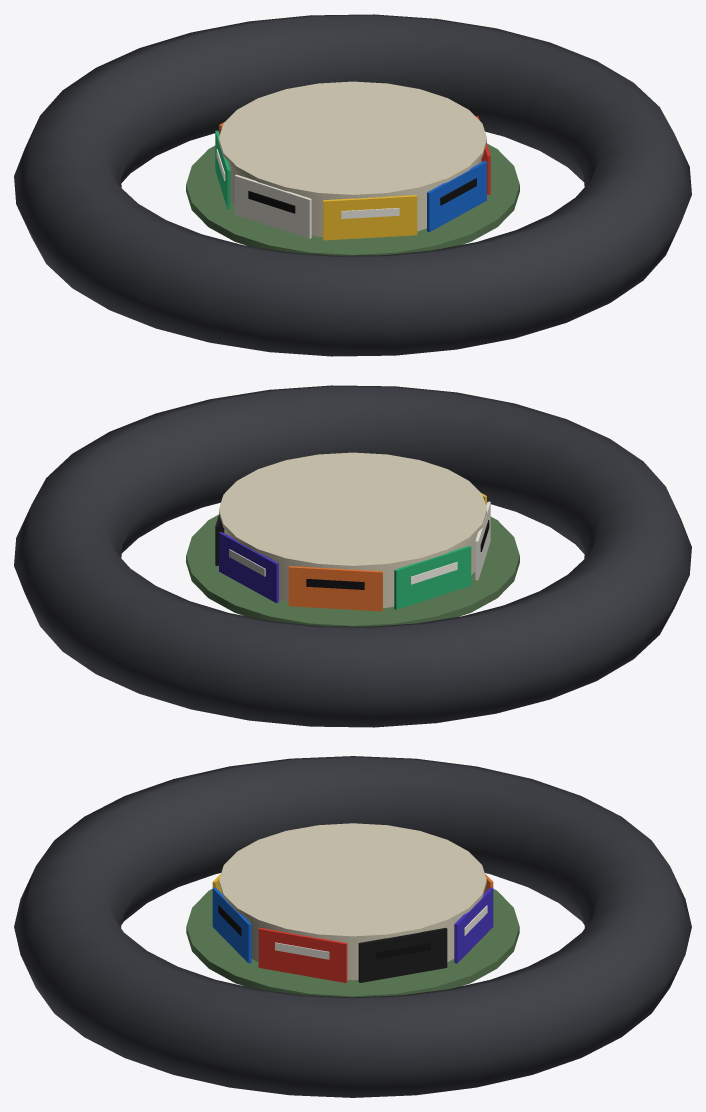
File: oldstreet.glb
The picture shows the model from 3 angles, top to bottom: view 1: azimuth 30°, elevation 25°; view 2: azimuth 150°, elevation 25°; view 3: azimuth 270°, elevation 25°; orthographic projection.
Visible parts, largest first — view 1: oldstreet; view 2: oldstreet; view 3: oldstreet.
Boxes of the visible parts, box(x1,y1,x2,y2) form: oldstreet: box(14, 14, 691, 356); oldstreet: box(14, 385, 691, 727); oldstreet: box(14, 756, 691, 1097).
Bounding box in the file's own units: 1.02 × 0.1617 × 1.02.
